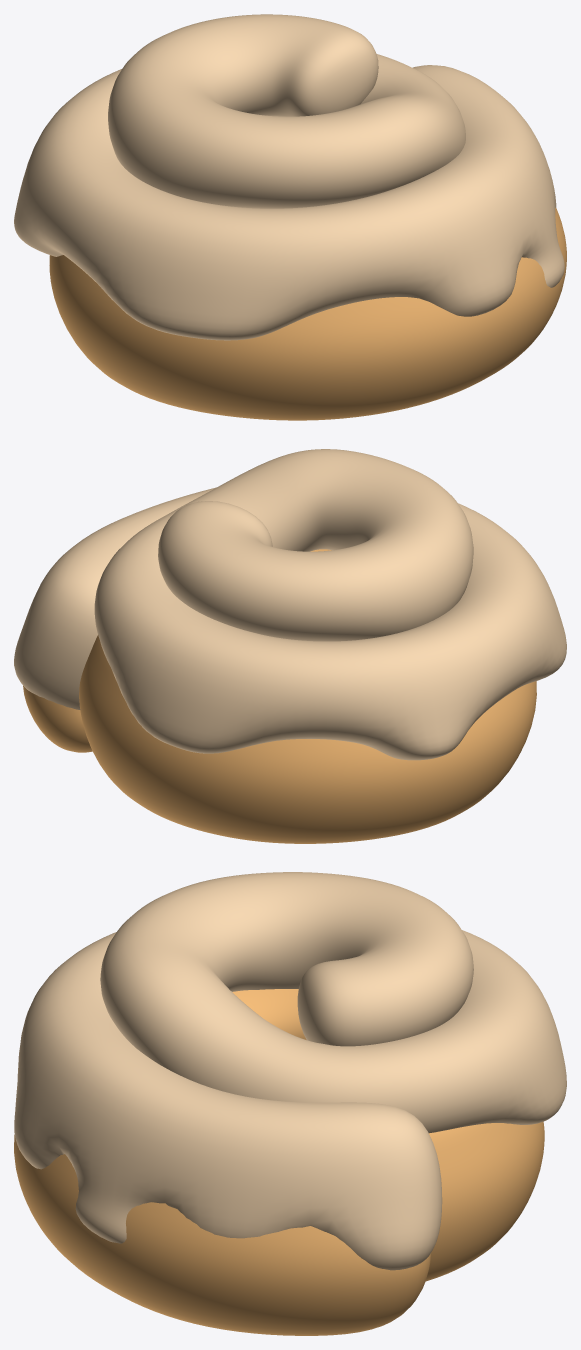
Rendered from cinnamon roll.fbx.
3 renders of one model, top to bottom at view 1: azimuth 30°, elevation 25°; view 2: azimuth 150°, elevation 25°; view 3: azimuth 270°, elevation 25°, orthographic. The views are drawn at different scales.
Parts seen in each view (by area): view 1: frosting, bread; view 2: frosting, bread; view 3: frosting, bread.
Part boxes in pixels (x1,y1,x2,y2): frosting: (14, 14, 564, 340); bread: (49, 207, 566, 420); frosting: (14, 449, 566, 760); bread: (23, 549, 536, 843); frosting: (14, 872, 566, 1270); bread: (14, 989, 544, 1335).
Size of the model in its own units: 64.27 by 35.86 by 60.37.
